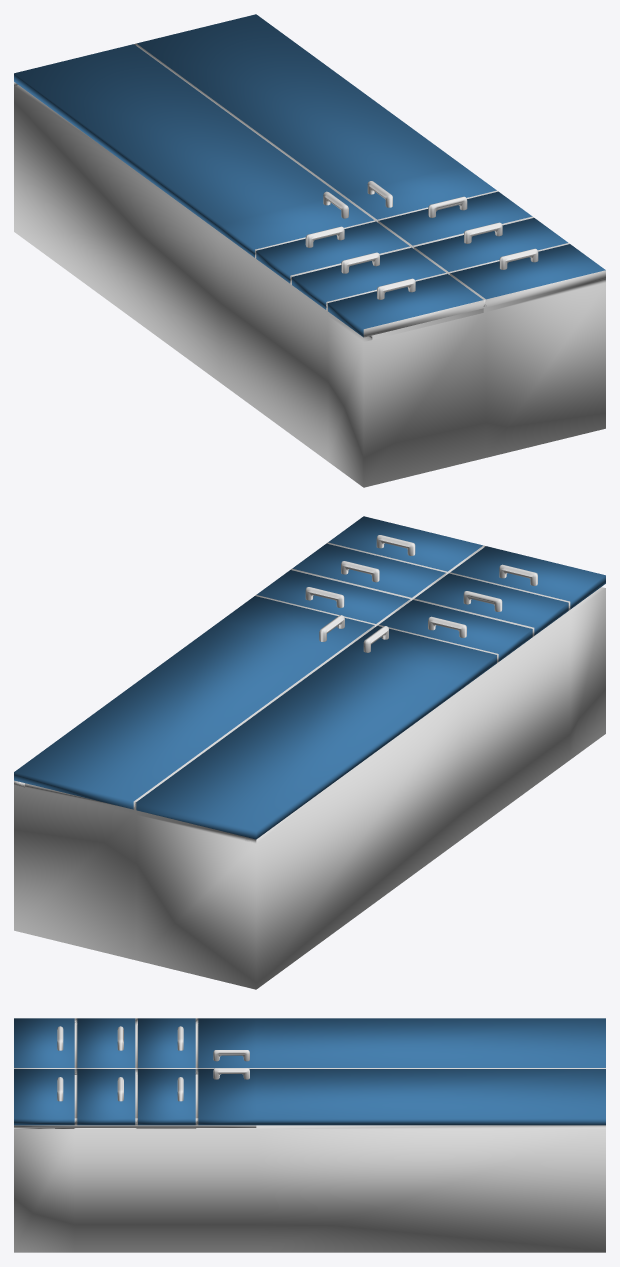
File: БТ-ШДя-8.fbx
The picture shows the model from 3 angles, top to bottom: view 1: azimuth 30°, elevation 25°; view 2: azimuth 150°, elevation 25°; view 3: azimuth 270°, elevation 25°; orthographic projection. The views are drawn at different scales.
Visible parts, largest first — view 1: Cube.008; view 2: Cube.008; view 3: Cube.008.
Boxes of the visible parts, bbox=[...] form: Cube.008: bbox=[14, 14, 605, 487]; Cube.008: bbox=[14, 516, 605, 989]; Cube.008: bbox=[14, 1018, 605, 1252].
Bounding box in the file's own units: 80 × 53.76 × 200.
